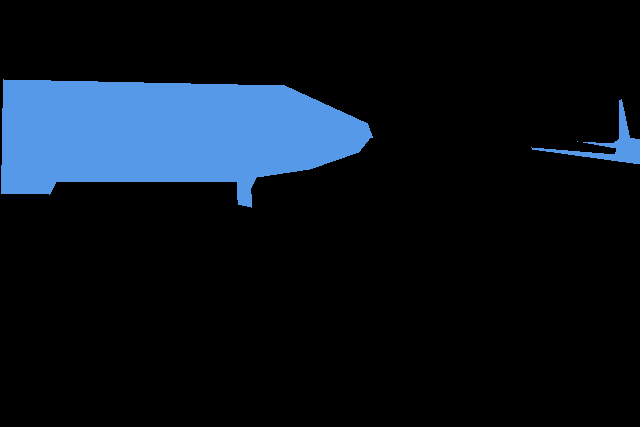Airplane: (1, 79, 372, 208), (531, 99, 640, 164)
